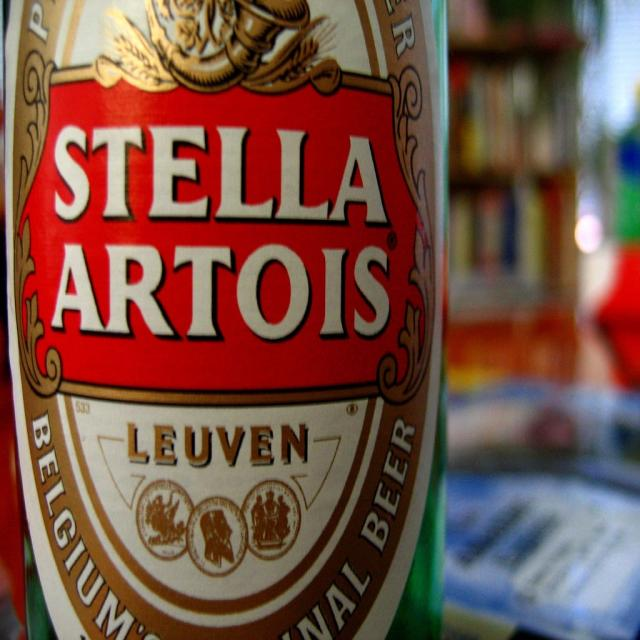stellaartois: (12, 2, 436, 640)
